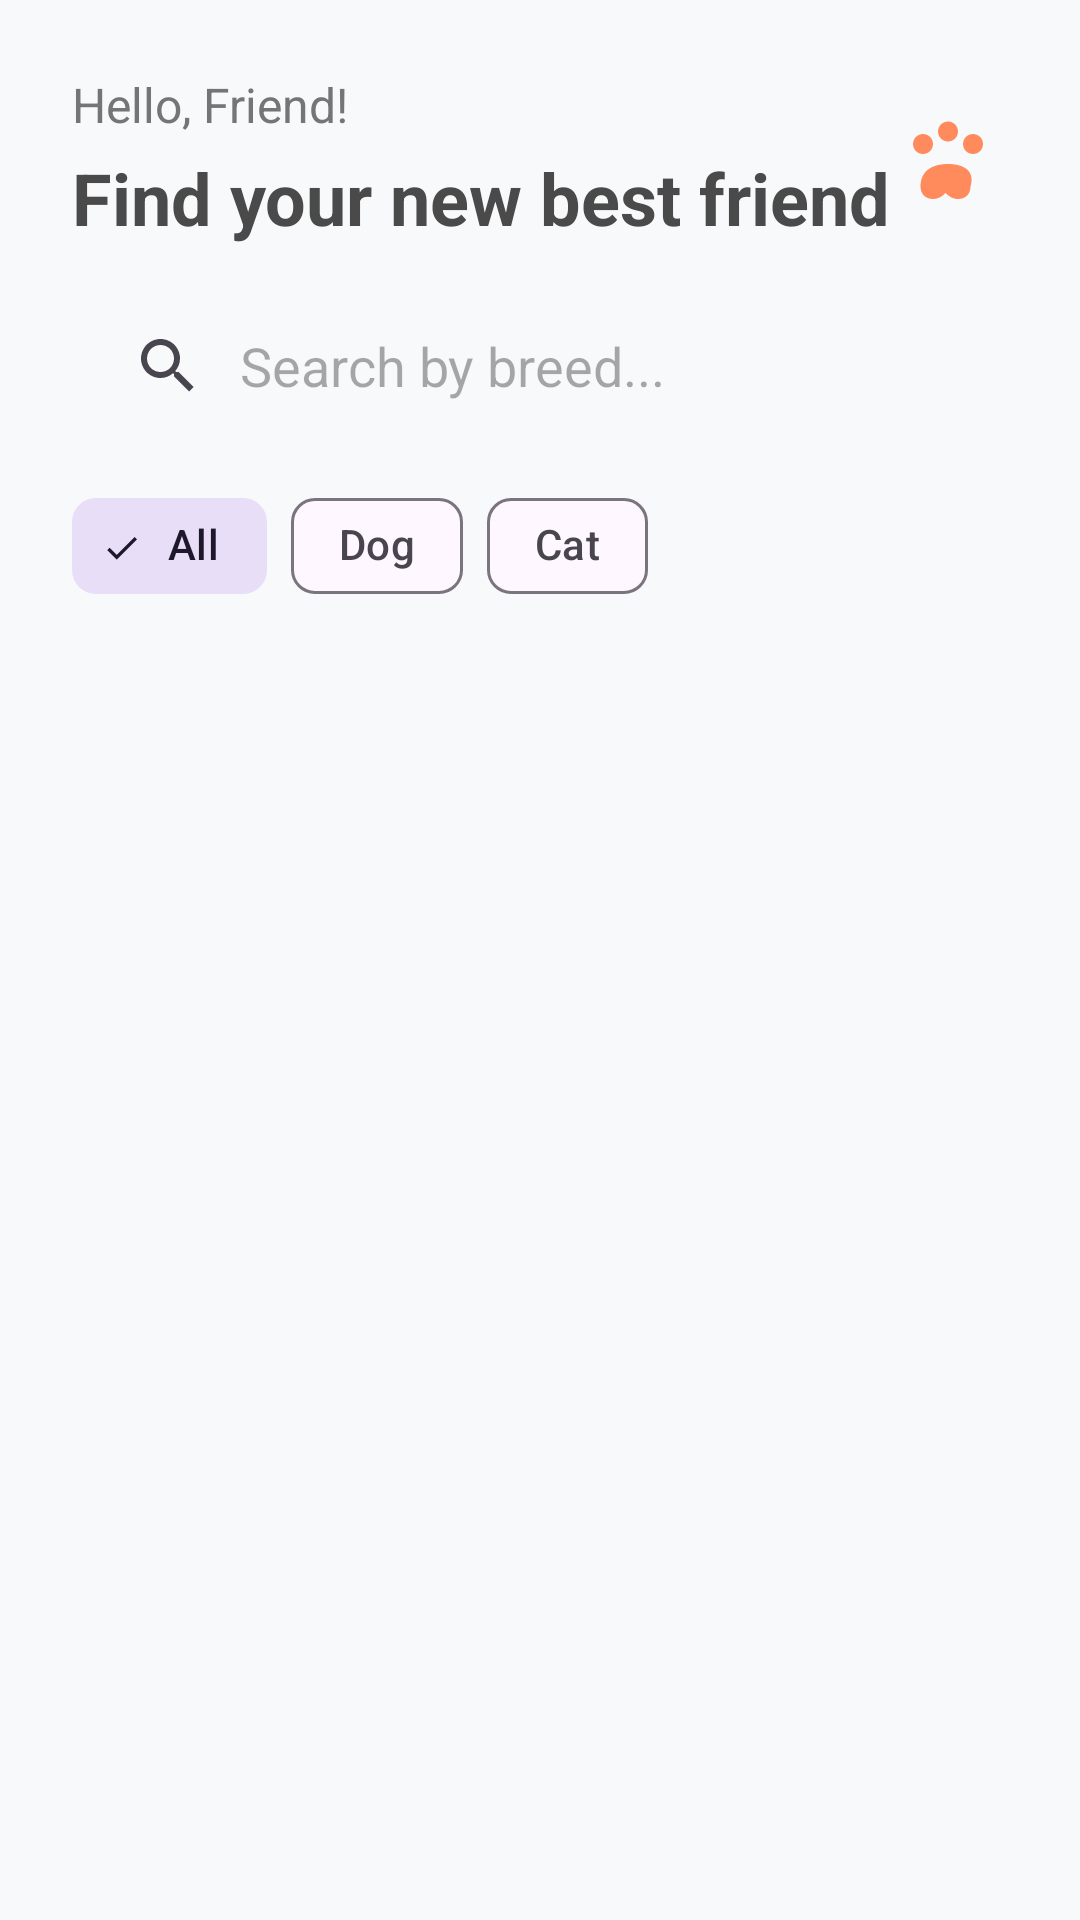

Screen size 1080×1920. Icon name, then its center in pixels as [x,y]:
paw: [948,160]
